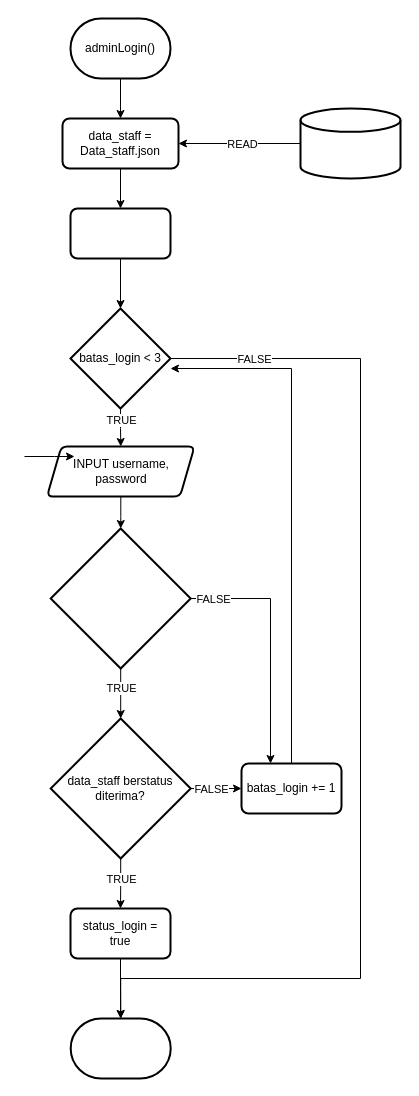
Some shapes in this 419 by 1096 pixel diagram are drawn without their labels. The shapes that lost their labels are listed below. From the top down, each one's centre as x and y in pixels, then its label:
At point 350,143: "Data_staff.json".
At point 120,233: "batas_login = 0 status_login = false".
At point 120,598: "username dan password cocok dengan data_staff?".
At point 120,1048: "END".
